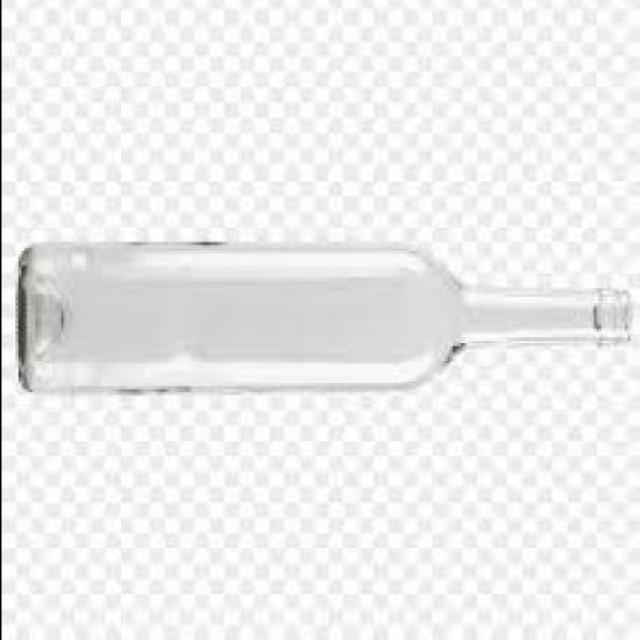glass: (17, 245, 632, 392)
